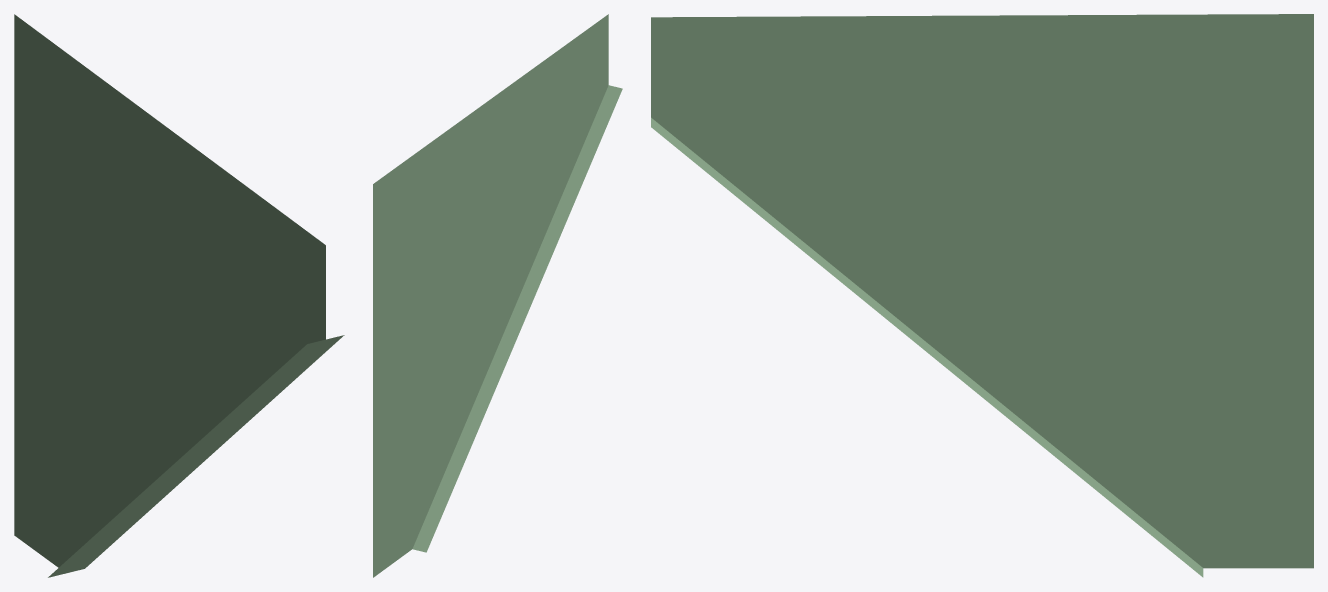
The model's file is NO_2_DIESEL_OIL_TK_SB.glb.
The picture shows the model from 3 angles, left to right: view 1: azimuth 30°, elevation 25°; view 2: azimuth 150°, elevation 25°; view 3: azimuth 270°, elevation 25°; orthographic projection. The views are drawn at different scales.
Visible parts, largest first — view 1: PL_TransBracketxFR42S_001001-10_NVA_1993, FP_TransBracketxFR42S_001001-T_125x11_NVA_1993; view 2: PL_TransBracketxFR42S_001001-10_NVA_1993, FP_TransBracketxFR42S_001001-T_125x11_NVA_1993; view 3: PL_TransBracketxFR42S_001001-10_NVA_1993, FP_TransBracketxFR42S_001001-T_125x11_NVA_1993.
Boxes of the visible parts, x1,y1,x2,y2 form: PL_TransBracketxFR42S_001001-10_NVA_1993: [14, 14, 325, 567]; FP_TransBracketxFR42S_001001-T_125x11_NVA_1993: [48, 335, 344, 577]; PL_TransBracketxFR42S_001001-10_NVA_1993: [373, 14, 608, 577]; FP_TransBracketxFR42S_001001-T_125x11_NVA_1993: [412, 85, 622, 552]; PL_TransBracketxFR42S_001001-10_NVA_1993: [651, 14, 1313, 568]; FP_TransBracketxFR42S_001001-T_125x11_NVA_1993: [651, 117, 1203, 577].
Bounding box in the file's own units: 0.125 × 1.66 × 1.8.
